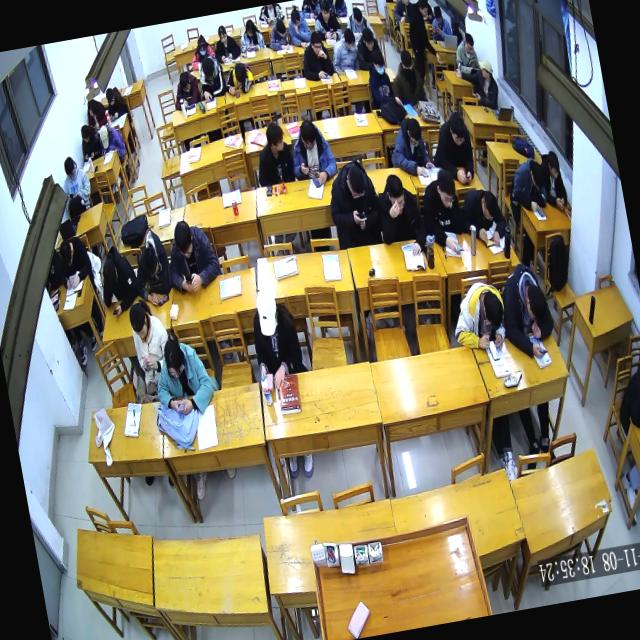bow: (493, 256, 561, 365), (126, 224, 178, 313), (92, 240, 144, 319), (456, 182, 510, 252), (504, 152, 552, 218), (168, 65, 202, 111), (222, 58, 258, 99), (184, 32, 216, 72), (264, 16, 292, 54)
down: (252, 285, 284, 340), (522, 281, 552, 329), (478, 287, 508, 334), (160, 334, 189, 382), (382, 172, 410, 220), (432, 166, 459, 212), (170, 218, 198, 262), (125, 300, 152, 344), (342, 164, 368, 202), (446, 108, 470, 148), (477, 187, 502, 225), (138, 244, 162, 282), (99, 254, 122, 290), (404, 115, 426, 151), (526, 158, 548, 192), (369, 46, 388, 78), (544, 148, 562, 181), (199, 54, 218, 85), (58, 238, 76, 270), (61, 153, 80, 183), (360, 24, 377, 54), (176, 69, 194, 96), (230, 59, 248, 85), (97, 122, 112, 150), (350, 4, 366, 30), (462, 31, 477, 57), (272, 17, 288, 41), (194, 34, 209, 59), (242, 17, 258, 40), (432, 4, 446, 28), (317, 0, 332, 22), (288, 7, 302, 30), (78, 122, 92, 144), (85, 97, 99, 119), (216, 23, 230, 45), (415, 0, 430, 19), (104, 86, 117, 107)
lookup: (308, 29, 326, 58), (399, 0, 412, 8)
sit: (241, 279, 308, 396), (145, 323, 217, 422), (322, 154, 387, 253), (370, 165, 430, 264), (124, 294, 178, 404), (160, 214, 227, 298), (444, 277, 512, 359), (413, 164, 469, 262), (283, 112, 341, 190), (426, 108, 480, 190), (248, 118, 298, 188), (386, 112, 436, 182), (451, 54, 502, 116), (386, 45, 428, 110), (402, 0, 441, 68), (52, 232, 96, 292), (362, 44, 402, 110), (57, 150, 96, 217), (608, 358, 640, 437), (535, 146, 570, 212), (296, 27, 336, 84), (192, 50, 230, 103), (326, 24, 362, 76), (352, 24, 386, 74), (283, 2, 315, 52), (308, 0, 344, 43), (208, 20, 242, 64), (451, 29, 482, 76), (96, 119, 126, 158), (77, 120, 103, 164), (236, 16, 266, 54), (427, 0, 452, 43), (102, 84, 129, 122), (343, 2, 371, 37), (84, 95, 109, 132), (389, 0, 415, 25)
